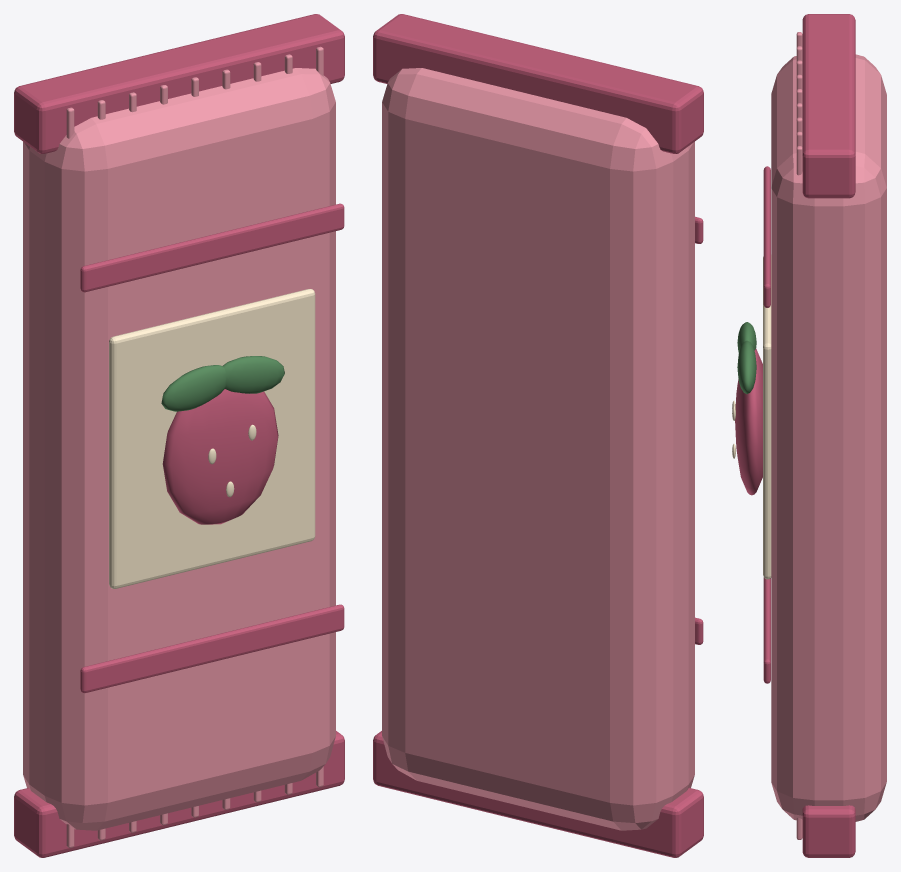
The model's file is wrapped_strawberry_chocolate.glb.
3 renders of one model, left to right at view 1: azimuth 30°, elevation 25°; view 2: azimuth 150°, elevation 25°; view 3: azimuth 270°, elevation 25°, orthographic. The views are drawn at different scales.
Visible parts, largest first — view 1: Sealed plastic pack, Cream flavor label, Crimped end.001, Strawberry motif, Package band.001, Package band, Crimped end, Strawberry leaf, Strawberry leaf.001; view 2: Sealed plastic pack, Crimped end.001, Crimped end; view 3: Sealed plastic pack, Crimped end.001, Strawberry motif, Crimped end, Cream flavor label, Package band.001, Package band, Strawberry leaf.001, Strawberry leaf.
Part boxes in pixels (x1=…): Sealed plastic pack: x1=23, y1=68, x2=335, y2=830; Cream flavor label: x1=109, y1=289, x2=315, y2=588; Crimped end.001: x1=14, y1=14, x2=344, y2=153; Strawberry motif: x1=162, y1=389, x2=278, y2=524; Package band.001: x1=80, y1=203, x2=344, y2=292; Package band: x1=80, y1=604, x2=344, y2=692; Crimped end: x1=14, y1=731, x2=344, y2=857; Strawberry leaf: x1=161, y1=365, x2=226, y2=411; Strawberry leaf.001: x1=223, y1=356, x2=284, y2=393; Sealed plastic pack: x1=382, y1=68, x2=694, y2=830; Crimped end.001: x1=373, y1=14, x2=703, y2=153; Crimped end: x1=373, y1=731, x2=703, y2=857; Sealed plastic pack: x1=771, y1=54, x2=886, y2=821; Crimped end.001: x1=802, y1=14, x2=855, y2=198; Strawberry motif: x1=735, y1=349, x2=762, y2=495; Crimped end: x1=802, y1=805, x2=855, y2=857; Cream flavor label: x1=763, y1=255, x2=771, y2=579; Package band.001: x1=763, y1=166, x2=770, y2=307; Package band: x1=763, y1=577, x2=770, y2=683; Strawberry leaf.001: x1=737, y1=340, x2=756, y2=393; Strawberry leaf: x1=737, y1=322, x2=756, y2=352.
Bounding box in the file's own units: 0.69 × 1.62 × 0.321.
